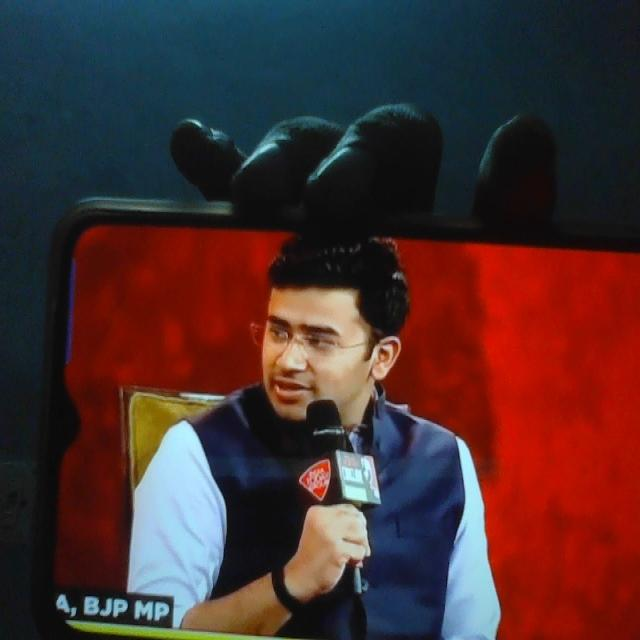fake: (249, 215, 377, 456)
